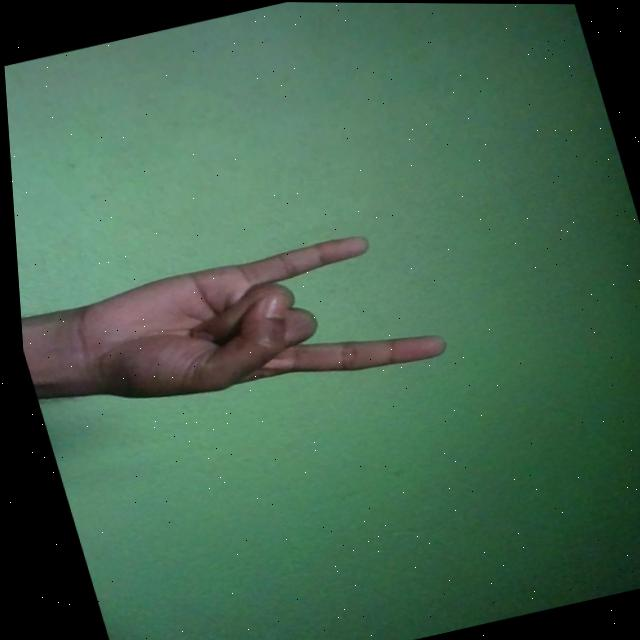Rock On: (47, 218, 451, 438)
